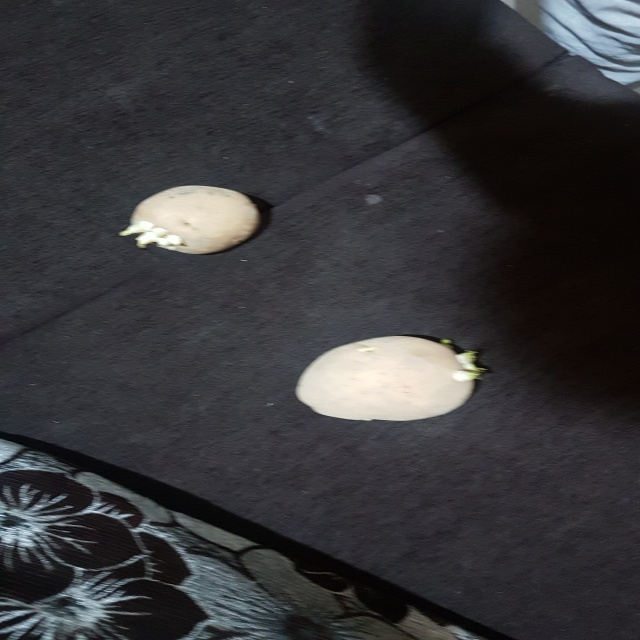potato: (288, 329, 501, 442), (115, 176, 271, 265)
